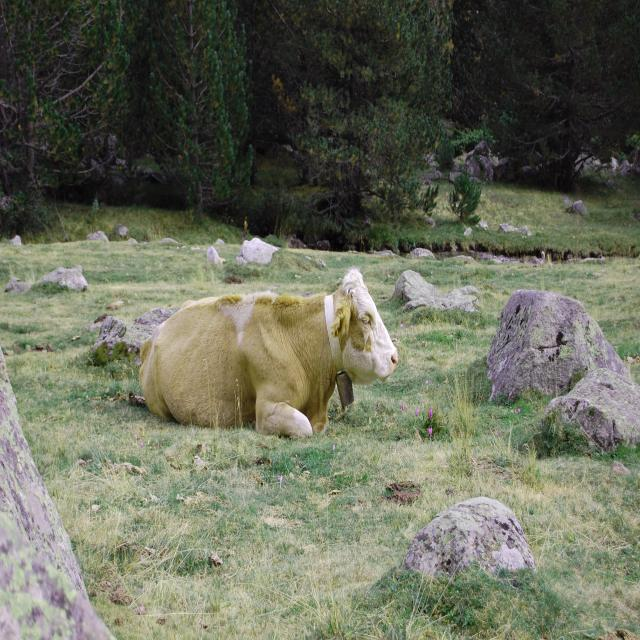cow: (140, 269, 398, 438)
